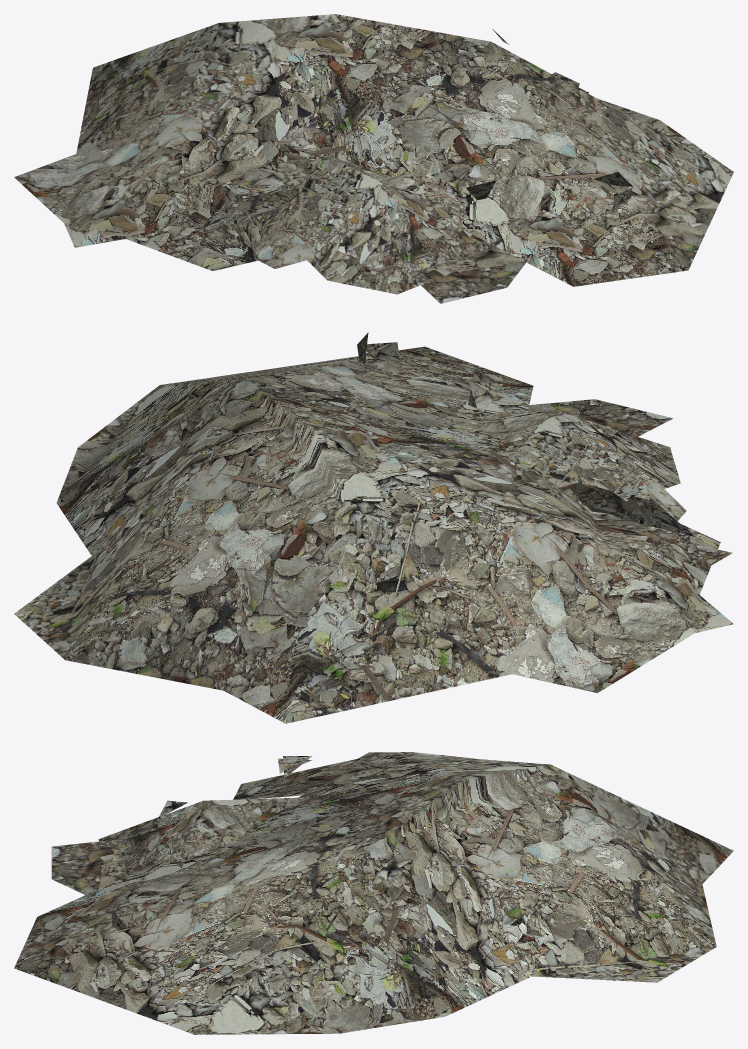
Rendered from ruins_shut2_LOD.fbx.
The picture shows the model from 3 angles, top to bottom: view 1: azimuth 30°, elevation 25°; view 2: azimuth 150°, elevation 25°; view 3: azimuth 270°, elevation 25°; orthographic projection. The views are drawn at different scales.
Visible parts, largest first — view 1: shutt; view 2: shutt; view 3: shutt.
Part boxes in pixels (bbox=[...]): shutt: bbox=[14, 14, 733, 303]; shutt: bbox=[14, 332, 733, 723]; shutt: bbox=[14, 752, 733, 1034].
Size of the model in its own units: 1173 by 243 by 1266.
